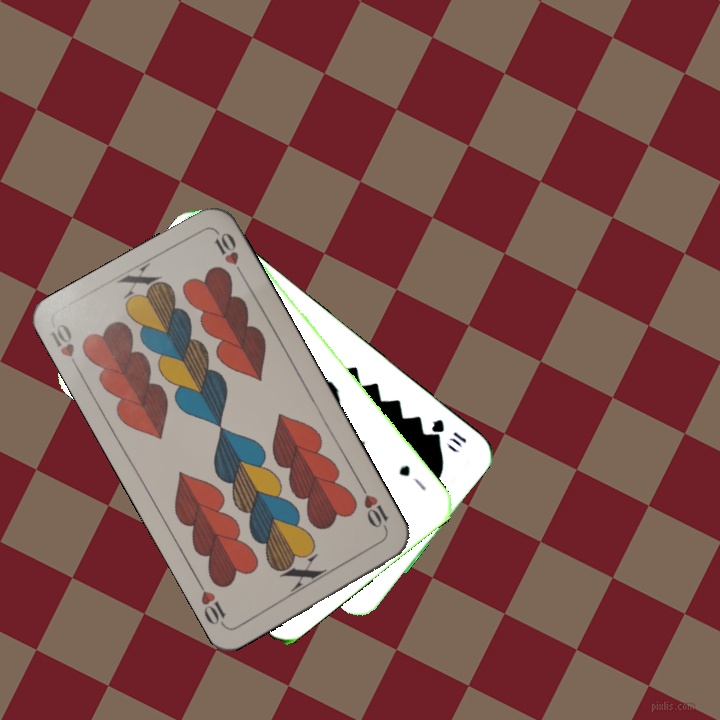G10: (427, 415, 470, 451)
GU: (394, 460, 429, 494)
H10: (46, 319, 84, 376), (356, 481, 391, 536)
